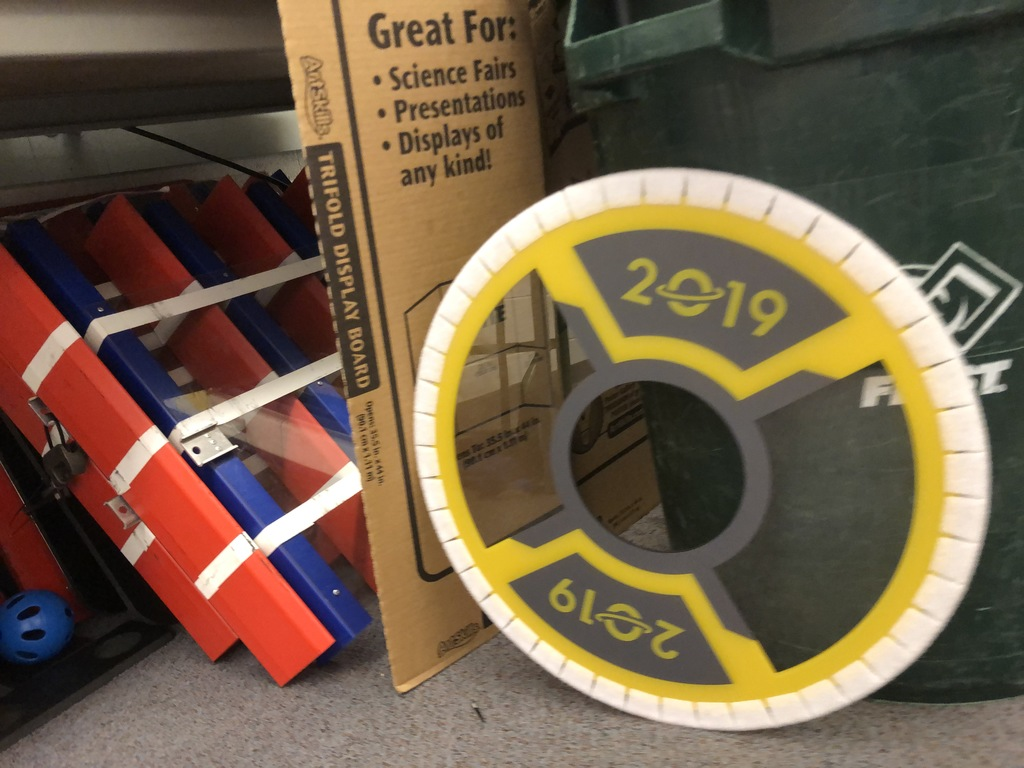hatch_panel: (416, 158, 999, 744)
